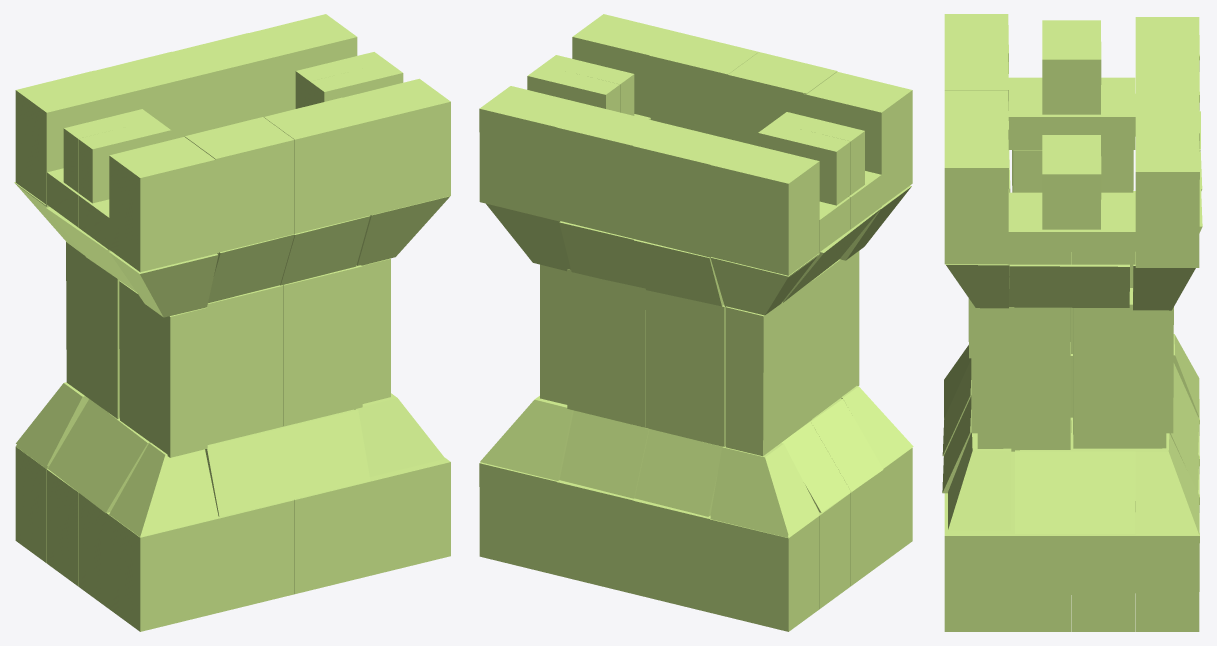
Rendered from castle_003.FBX.
3 views of the same model, side by side, from view 1: azimuth 30°, elevation 25°; view 2: azimuth 150°, elevation 25°; view 3: azimuth 270°, elevation 25° (orthographic). The views are drawn at different scales.
Visible parts, largest first — view 1: brick_005, toptopsidebrick007, toptopsidebrick001, toptopsidebrick, brick_004, Brick_027, Brick_037, Brick_029, Brick_018, Brick_024, Brick_014, toptopsidebrick006 (+27 smaller); view 2: Brick_024, toptopsidebrick006, toptopsidebrick002, toptopsidebrick003, Brick_009, Brick_032, Brick_028, Brick_026, brick_005, Brick_027, Brick_017, Brick_013 (+28 smaller); view 3: toptopsidebrick005, toptopsidebrick004, Brick_029, Brick_032, Brick_018, Brick_019, Brick_020, Brick_021, topside_Brick_023, Sidebrick_001, sidebrick_005, topside_Brick_022 (+28 smaller).
Part boxes in pixels (bbox=[...]): brick_005: bbox=[109, 136, 218, 272]; toptopsidebrick007: bbox=[119, 281, 207, 457]; toptopsidebrick001: bbox=[283, 265, 362, 426]; toptopsidebrick: bbox=[207, 285, 283, 444]; brick_004: bbox=[109, 515, 218, 631]; Brick_027: bbox=[264, 97, 373, 233]; Brick_037: bbox=[184, 117, 294, 252]; Brick_029: bbox=[343, 78, 450, 214]; Brick_018: bbox=[370, 458, 450, 574]; Brick_024: bbox=[15, 70, 125, 206]; Brick_014: bbox=[294, 478, 373, 593]; toptopsidebrick006: bbox=[66, 242, 119, 418]; Brick_024: bbox=[710, 142, 819, 276]; toptopsidebrick006: bbox=[725, 280, 812, 456]; toptopsidebrick002: bbox=[645, 289, 725, 446]; toptopsidebrick003: bbox=[567, 269, 645, 427]; Brick_009: bbox=[710, 516, 819, 631]; Brick_032: bbox=[479, 86, 587, 220]; Brick_028: bbox=[556, 104, 664, 238]; Brick_026: bbox=[633, 123, 740, 257]; brick_005: bbox=[803, 71, 912, 205]; Brick_027: bbox=[649, 33, 758, 138]; Brick_017: bbox=[556, 480, 635, 593]; Brick_013: bbox=[633, 499, 711, 612]; toptopsidebrick005: bbox=[977, 307, 1070, 451]; toptopsidebrick004: bbox=[1073, 288, 1166, 448]; Brick_029: bbox=[944, 129, 1008, 264]; Brick_032: bbox=[1135, 132, 1199, 267]; Brick_018: bbox=[944, 497, 1008, 631]; Brick_019: bbox=[1007, 497, 1071, 631]; Brick_020: bbox=[1071, 512, 1135, 631]; Brick_021: bbox=[1135, 513, 1199, 631]; topside_Brick_023: bbox=[1015, 433, 1078, 533]; Sidebrick_001: bbox=[1135, 433, 1199, 534]; sidebrick_005: bbox=[948, 433, 1011, 530]; topside_Brick_022: bbox=[1071, 433, 1135, 533].
Size of the model in its own units: 0.2742 by 0.38 by 0.1932.
